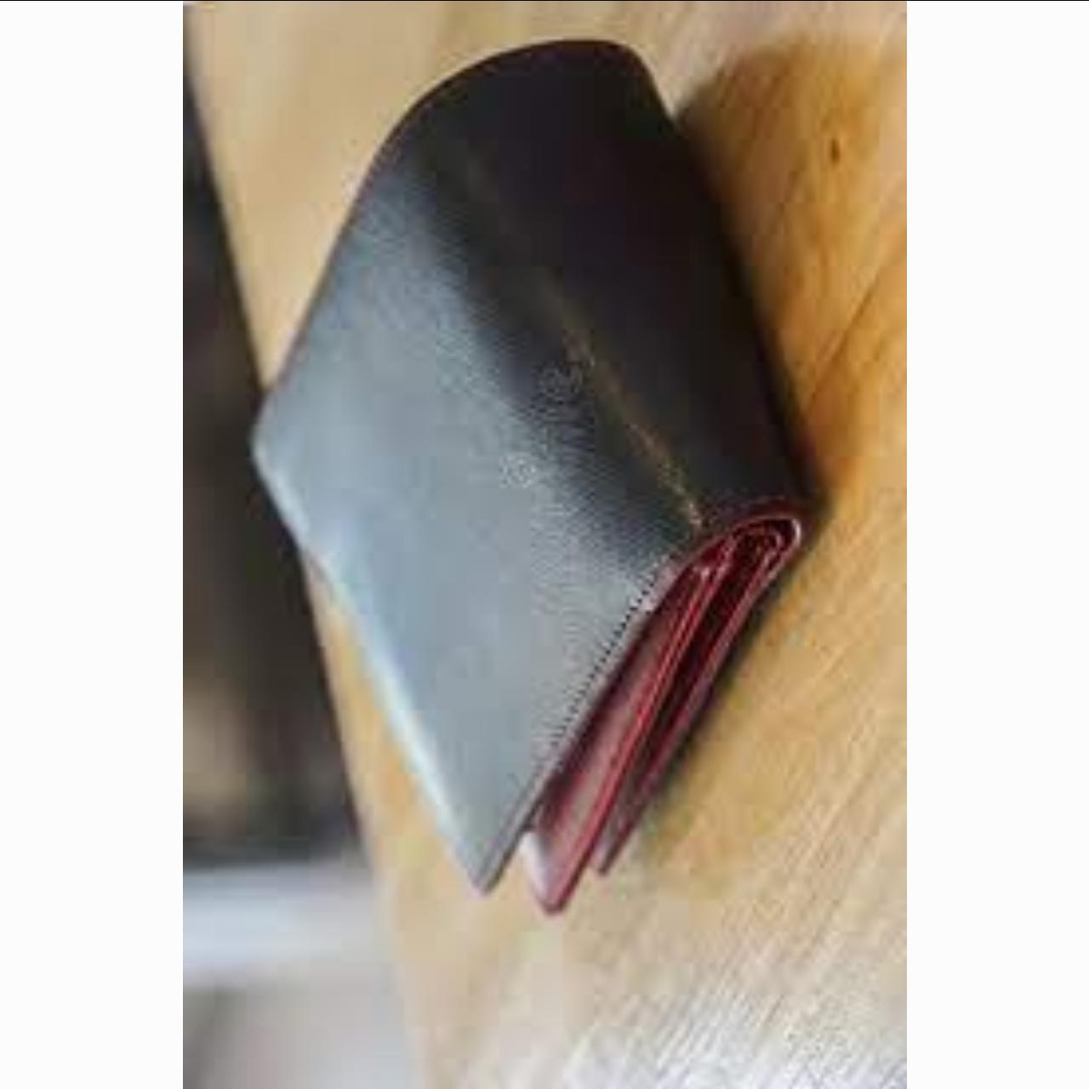wallet: (234, 18, 792, 869)
